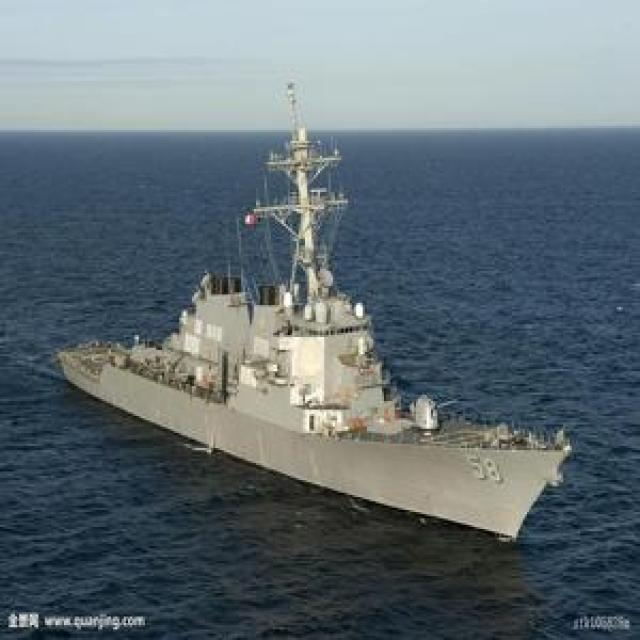navalvessels: (51, 85, 570, 548)
